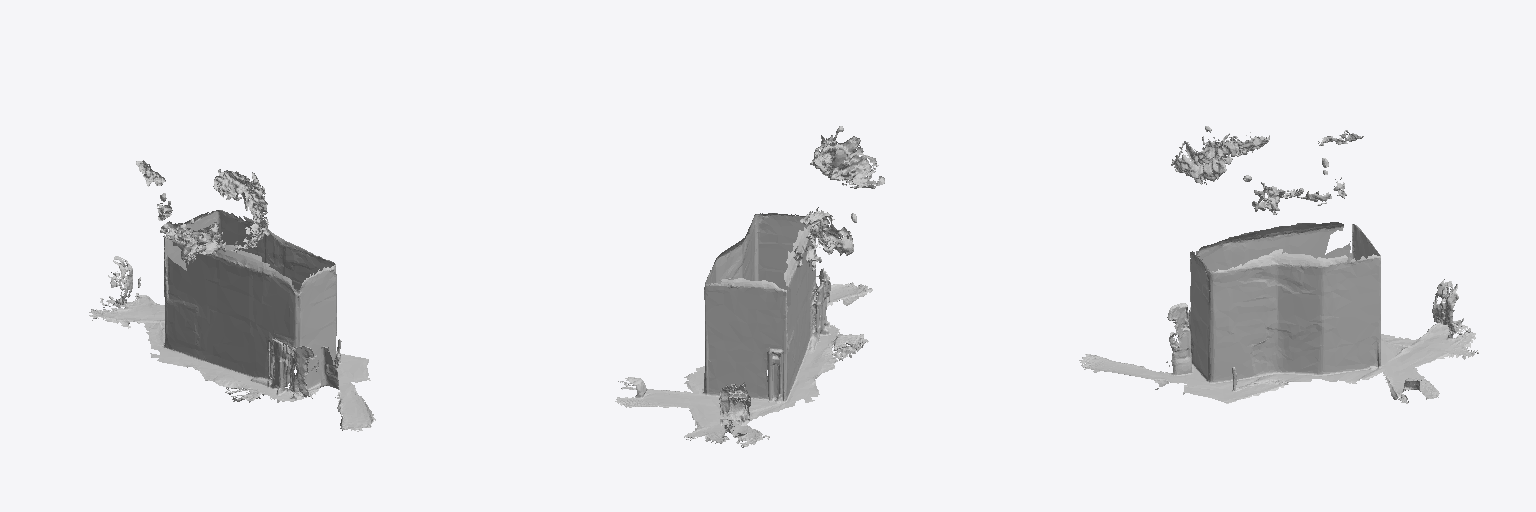
Rendered from titech-main-entrance.obj.
3 views of the same model, side by side, from view 1: azimuth 30°, elevation 25°; view 2: azimuth 150°, elevation 25°; view 3: azimuth 270°, elevation 25° (orthographic).
Visible parts, largest first — view 1: mesh_0; view 2: mesh_0; view 3: mesh_0.
Part boxes in pixels (bbox=[...]): mesh_0: bbox=[89, 160, 375, 431]; mesh_0: bbox=[615, 126, 884, 447]; mesh_0: bbox=[1079, 126, 1478, 403].
Bounding box in the file's own units: 5 × 6.16 × 10.01.